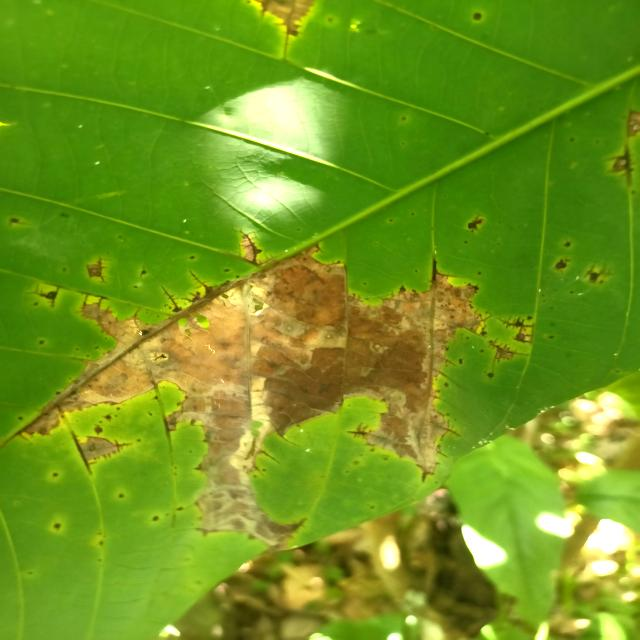Colletotrichum: (256, 0, 314, 36), (473, 13, 482, 21)
Corynespora: (70, 430, 131, 476), (233, 227, 275, 267), (488, 338, 529, 371), (606, 146, 634, 185), (28, 283, 60, 307), (86, 256, 110, 284), (160, 284, 182, 312), (496, 315, 534, 330), (585, 264, 611, 284), (188, 270, 210, 289), (347, 423, 372, 438), (512, 326, 534, 343), (445, 426, 462, 438)
Leaf-Blight: (16, 243, 484, 547)
